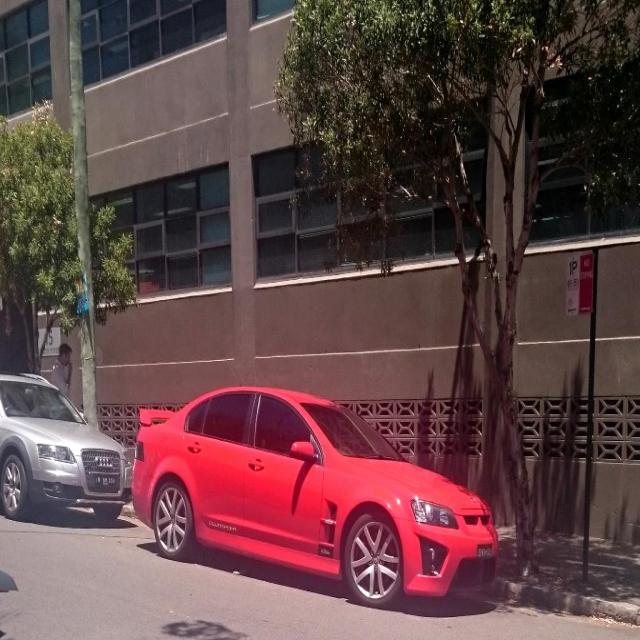car: (130, 357, 498, 605)
